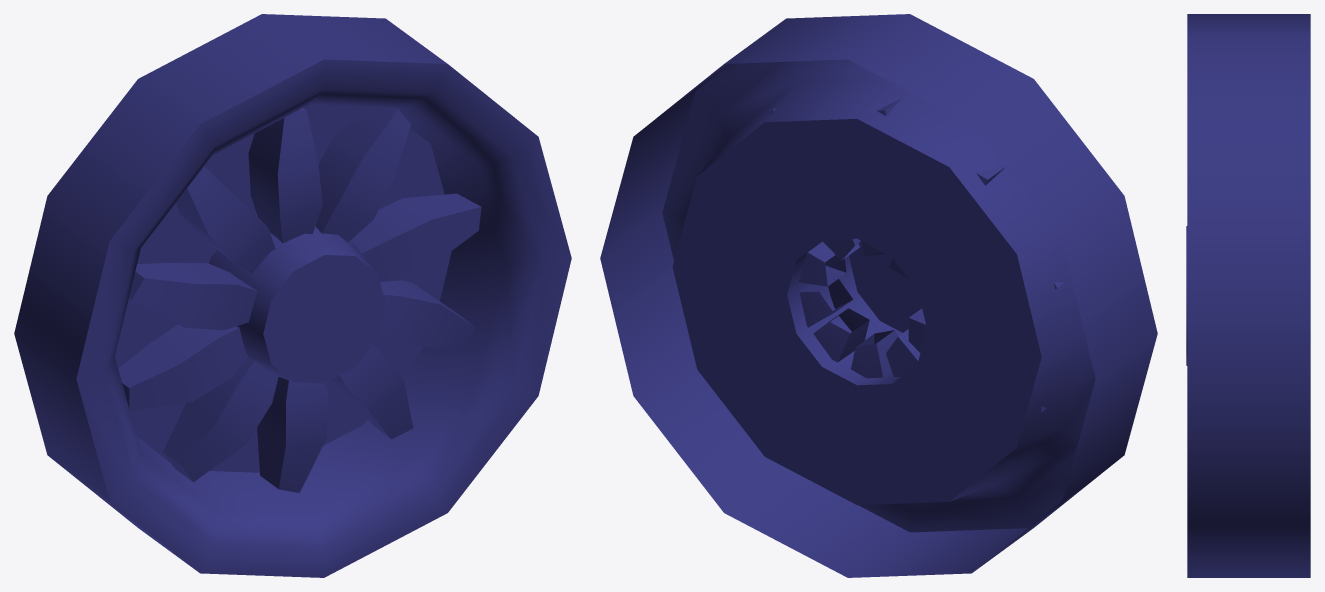
The model's file is Ventilacion.fbx.
3 renders of one model, left to right at view 1: azimuth 30°, elevation 25°; view 2: azimuth 150°, elevation 25°; view 3: azimuth 270°, elevation 25°, orthographic.
Parts seen in each view (by area): view 1: Ventilador_calle; view 2: Ventilador_calle; view 3: Ventilador_calle.
Boxes of the visible parts, left/top/right/bottom form: Ventilador_calle: left=14, top=14, right=571, bottom=577; Ventilador_calle: left=600, top=14, right=1157, bottom=577; Ventilador_calle: left=1186, top=14, right=1310, bottom=577.
Bounding box in the file's own units: 6.75 × 6.75 × 1.48.
